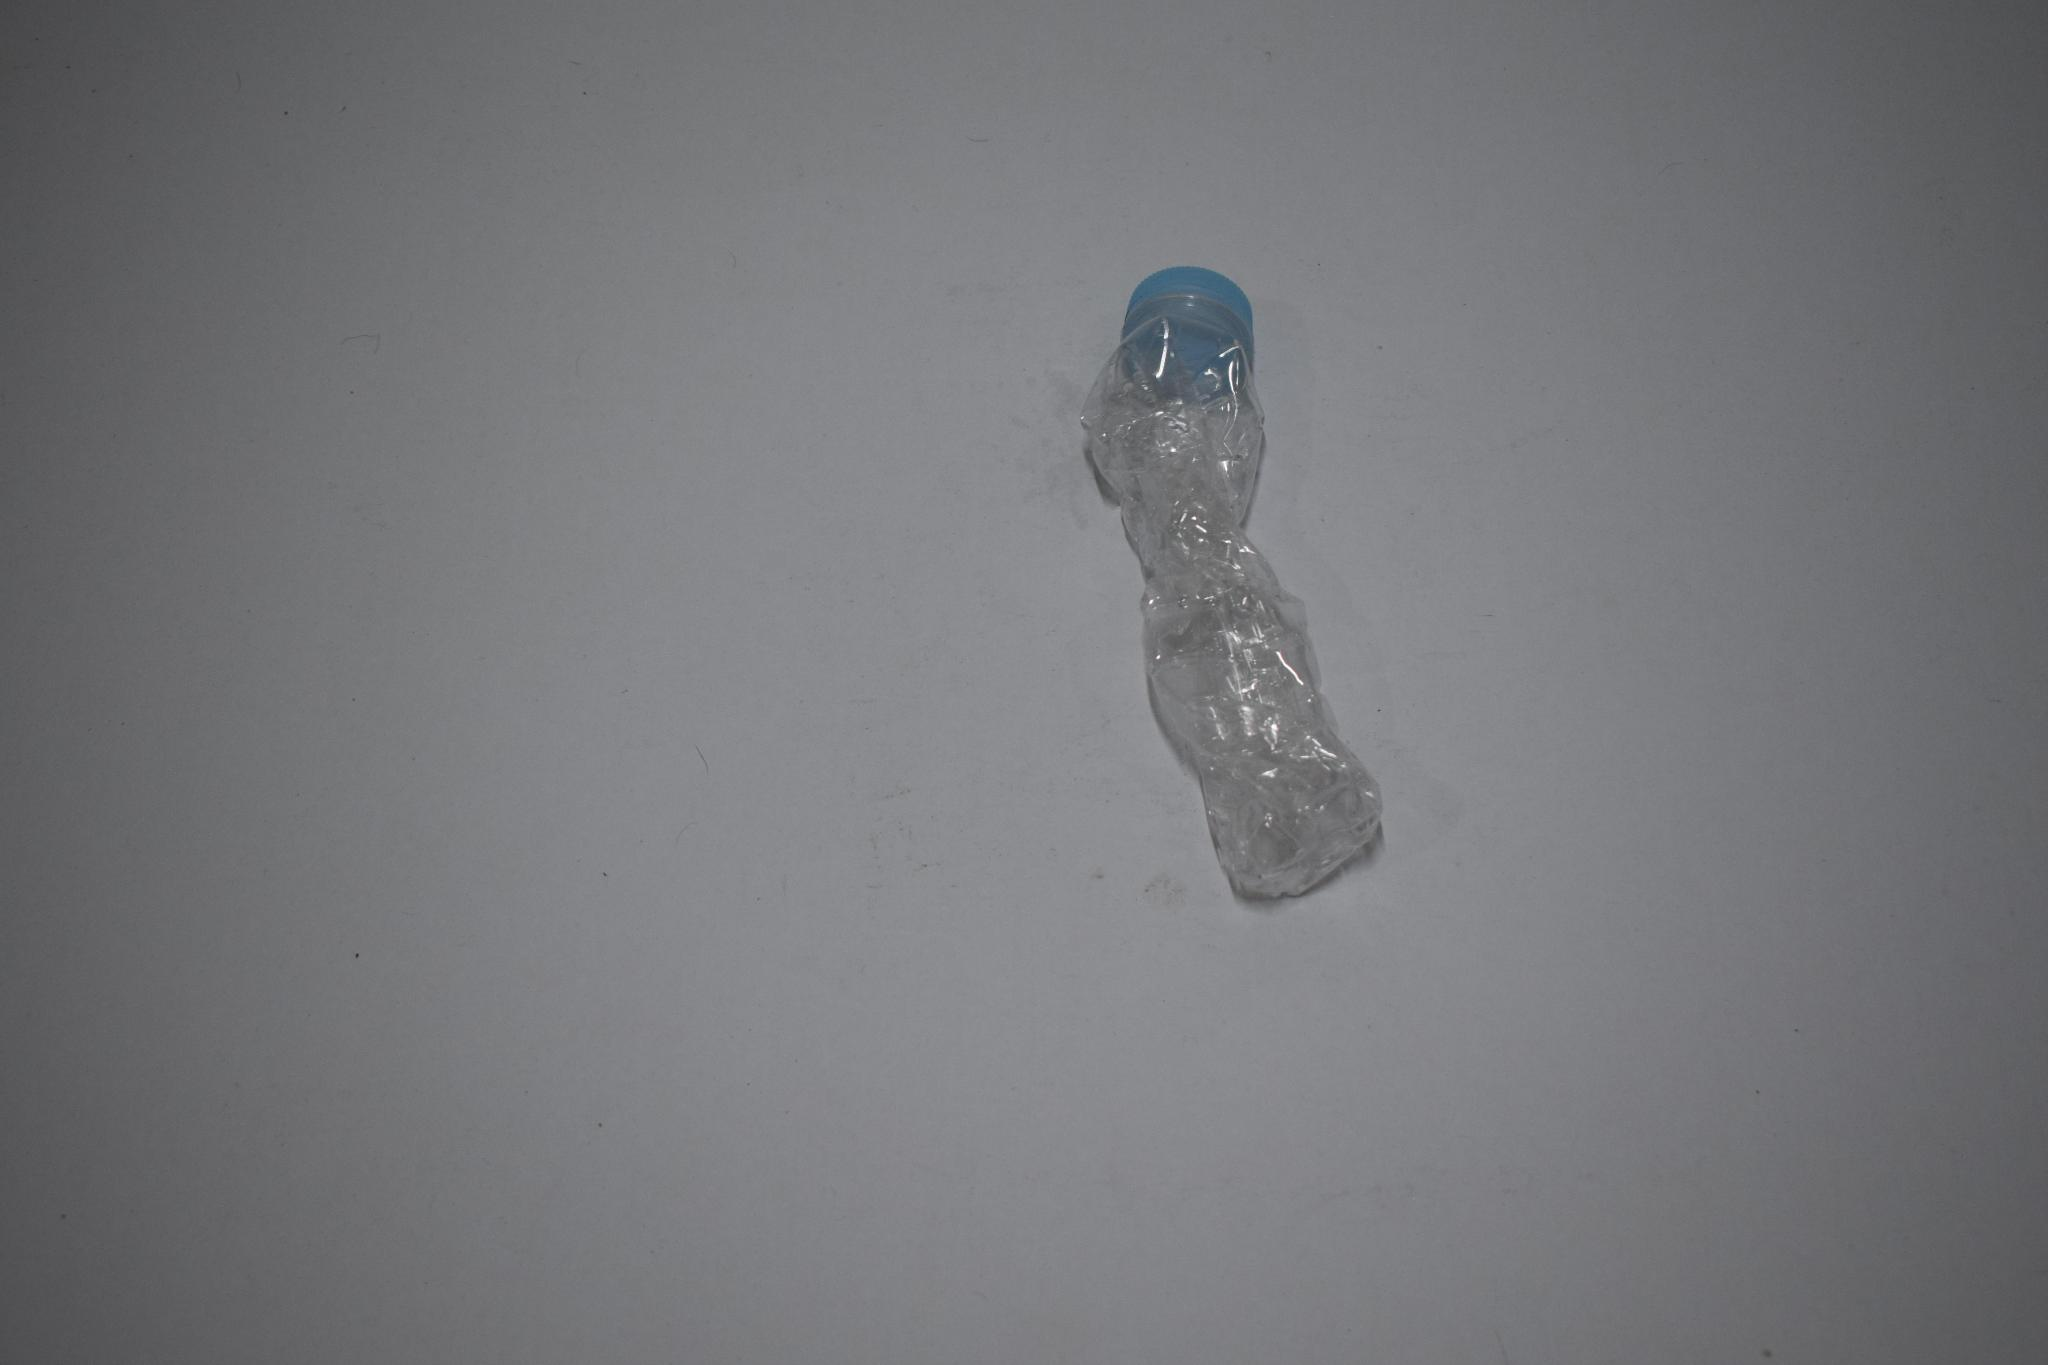bottle: (1131, 253, 1335, 917)
